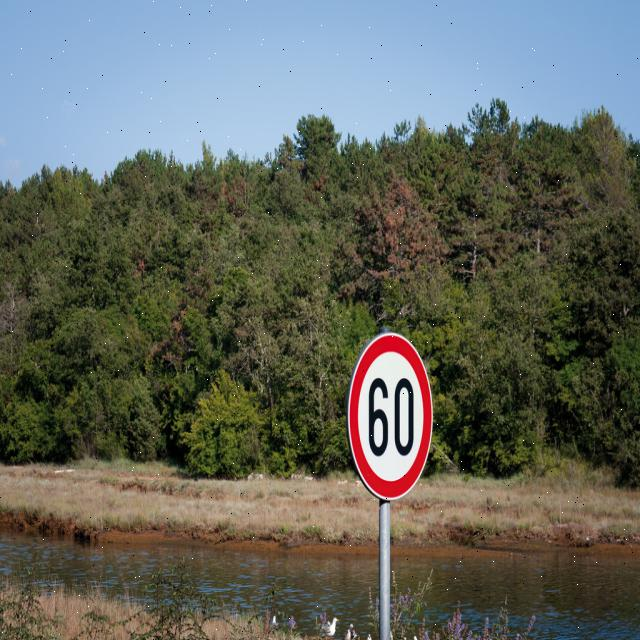speed limit 60: (346, 332, 433, 502)
